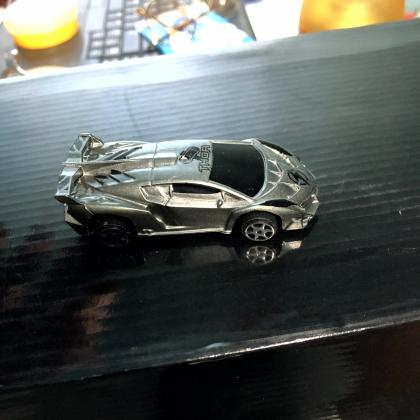Car: (55, 134, 320, 252)
